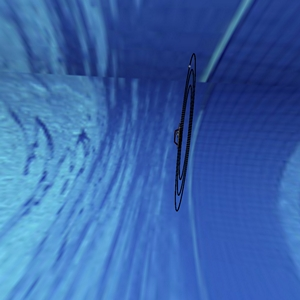circle: (149, 47, 226, 219)
submarine: (169, 125, 192, 154)
